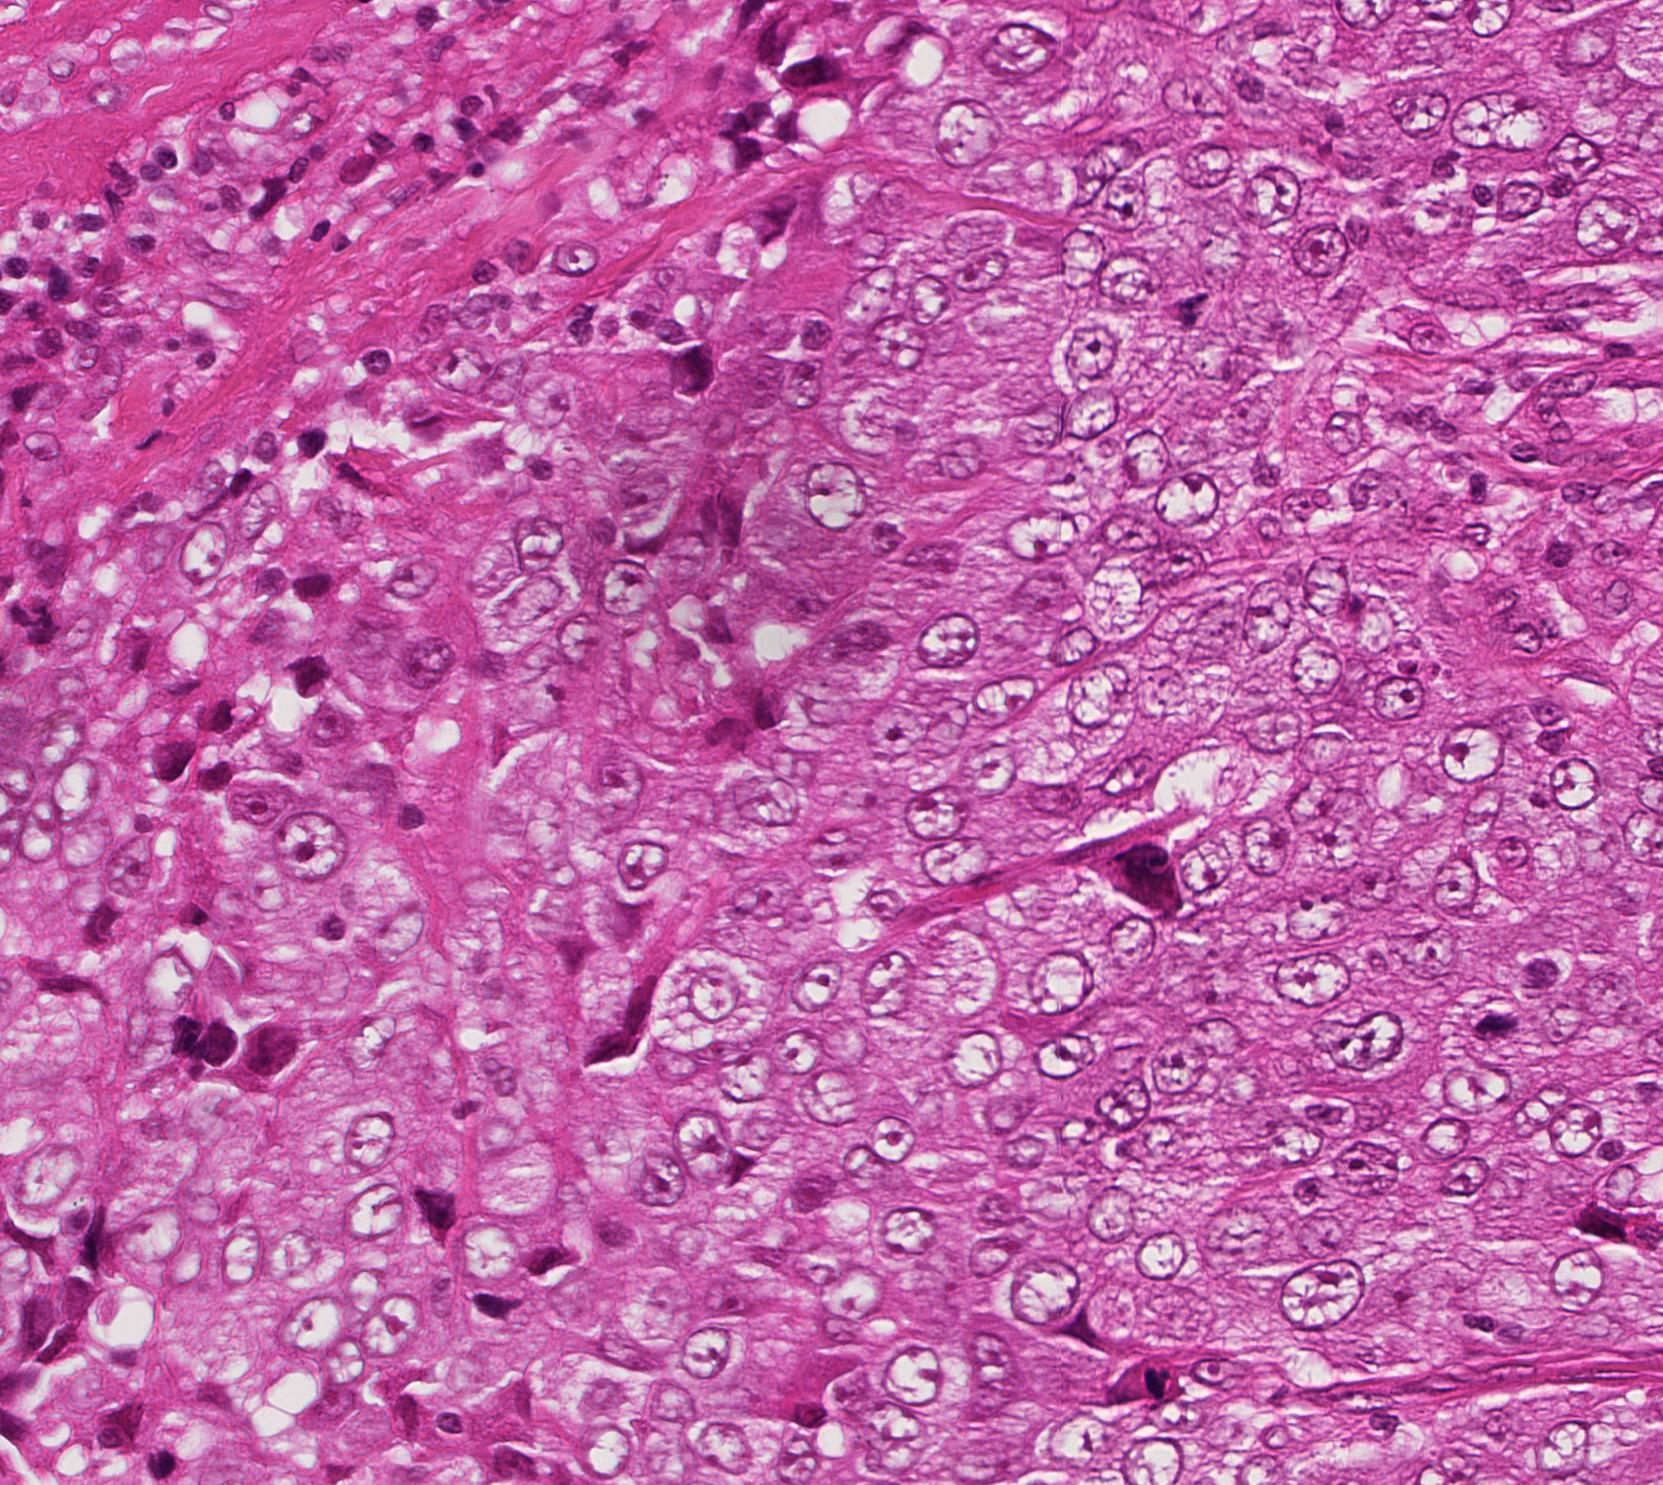mitosis: (16, 596, 76, 656)
